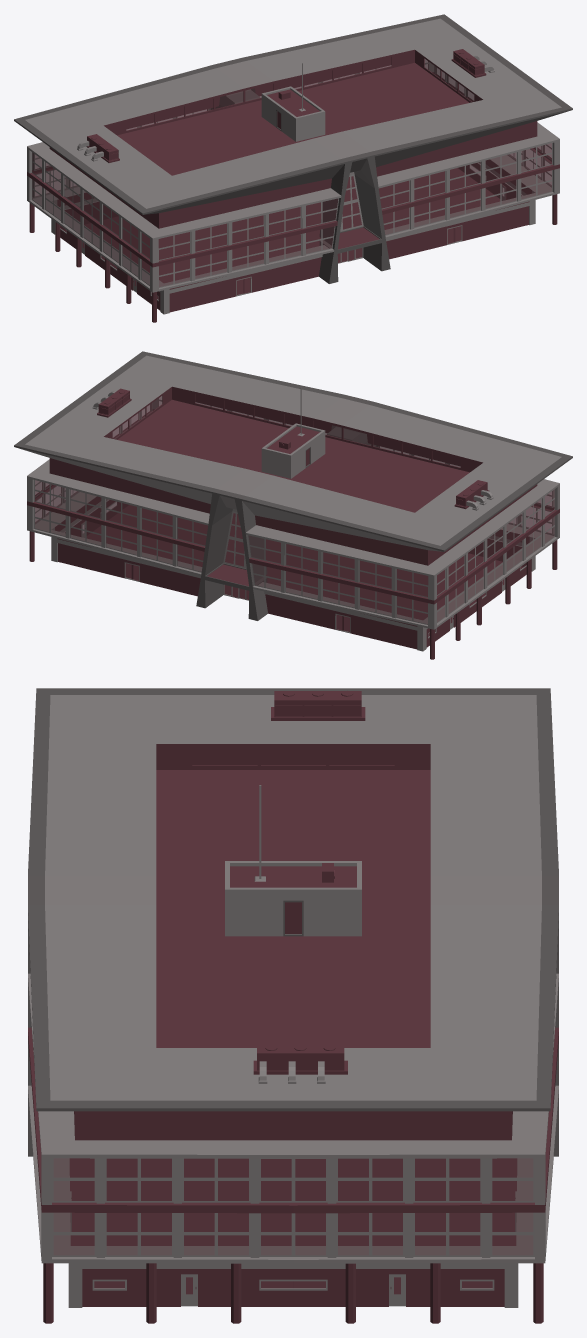
The model's file is building-train-station.fbx.
3 renders of one model, top to bottom at view 1: azimuth 30°, elevation 25°; view 2: azimuth 150°, elevation 25°; view 3: azimuth 270°, elevation 25°, orthographic. The views are drawn at different scales.
Visible parts, largest first — view 1: building-train-station; view 2: building-train-station; view 3: building-train-station.
Boxes of the visible parts, bbox=[...] form: building-train-station: bbox=[14, 14, 572, 322]; building-train-station: bbox=[14, 351, 572, 659]; building-train-station: bbox=[28, 688, 558, 1323].
Size of the model in its own units: 58 by 22 by 31.
